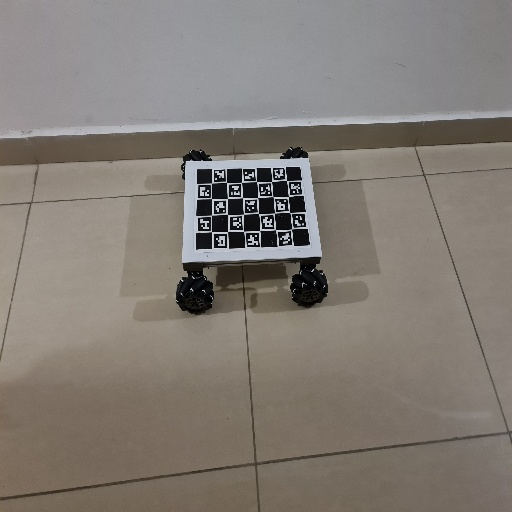Omniwheel: (174, 148, 331, 317)
